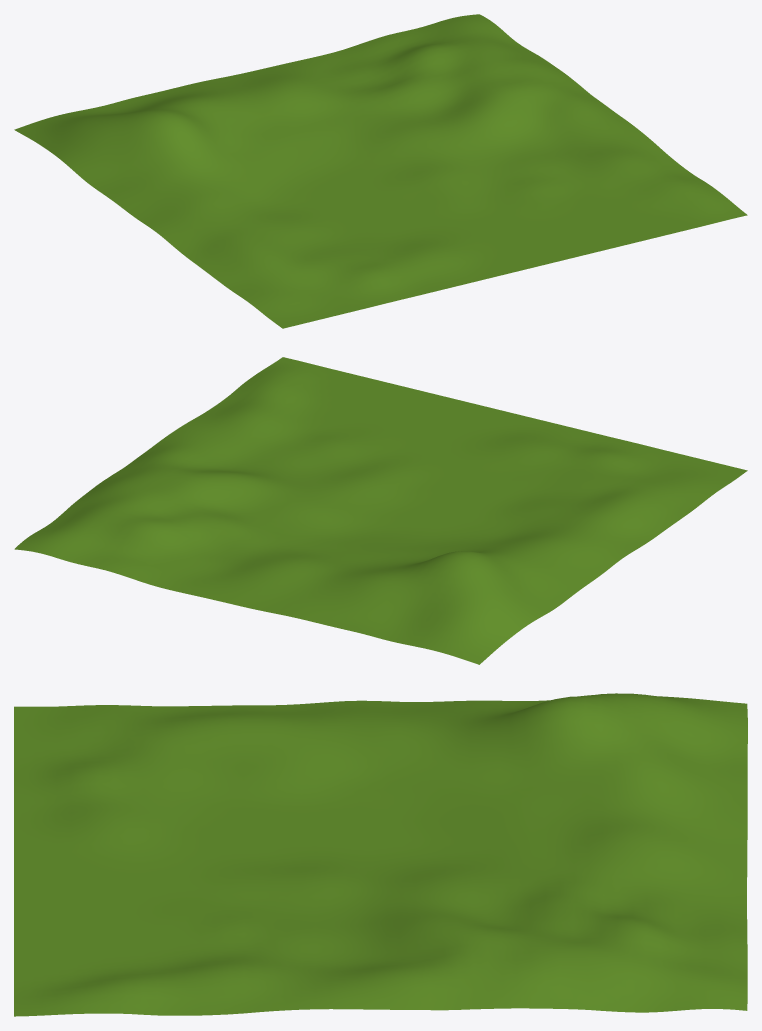
File: Environment001.fbx
The picture shows the model from 3 angles, top to bottom: view 1: azimuth 30°, elevation 25°; view 2: azimuth 150°, elevation 25°; view 3: azimuth 270°, elevation 25°; orthographic projection. The views are drawn at different scales.
Visible parts, largest first — view 1: Plane; view 2: Plane; view 3: Plane.
Part boxes in pixels (x1,y1,x2,y2): Plane: [14, 14, 747, 328]; Plane: [14, 357, 747, 664]; Plane: [14, 693, 747, 1016].
Bounding box in the file's own units: 50312 × 4397 × 50073.
